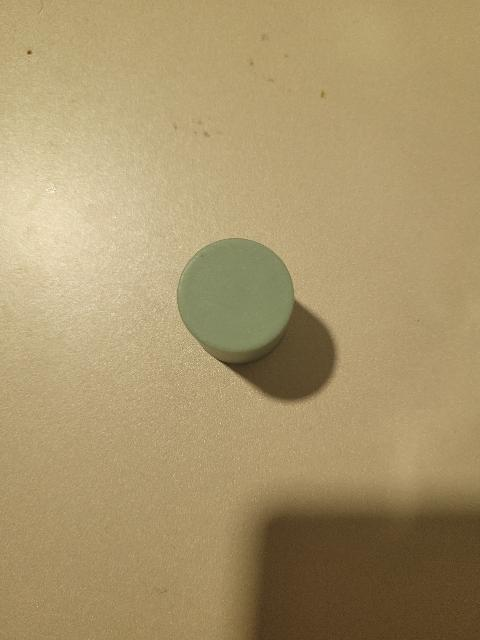Plastik: (176, 235, 300, 356)
